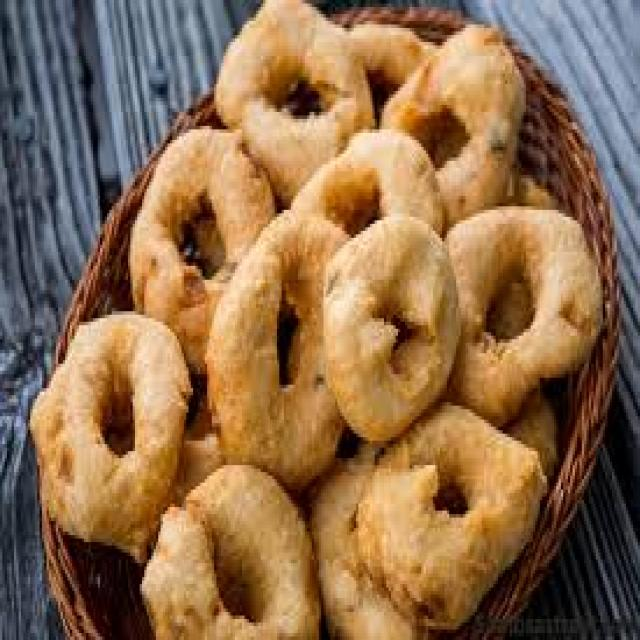MEDU VADA: (350, 411, 545, 637), (21, 310, 196, 560), (443, 208, 607, 431), (210, 215, 347, 480), (328, 213, 469, 450), (122, 129, 271, 342), (139, 462, 320, 637), (208, 0, 375, 181), (382, 29, 525, 222), (314, 460, 421, 637)
